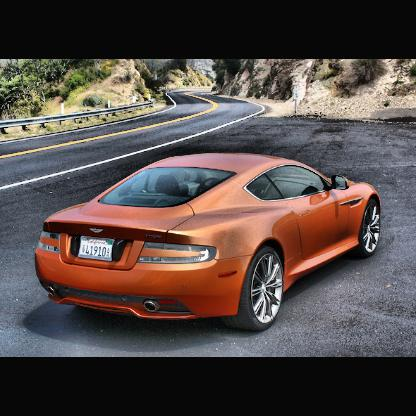Aston Martin Virage Coupe 2012: (35, 154, 384, 328)
